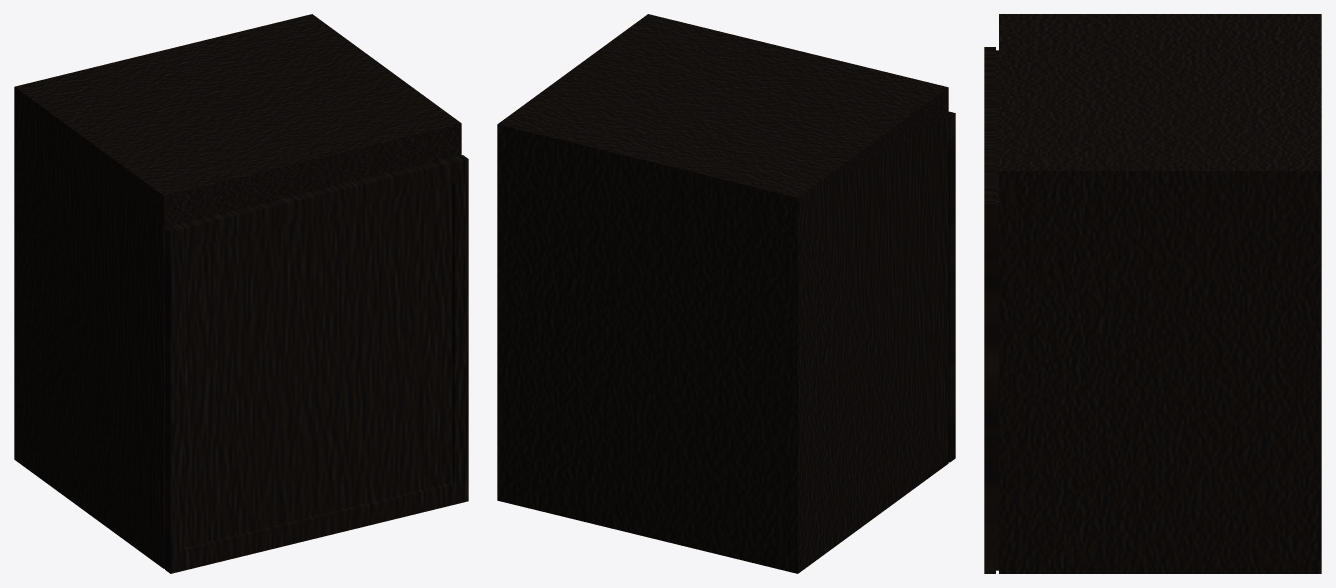
The model's file is kitchencabinetupper.fbx.
The picture shows the model from 3 angles, left to right: view 1: azimuth 30°, elevation 25°; view 2: azimuth 150°, elevation 25°; view 3: azimuth 270°, elevation 25°; orthographic projection. The views are drawn at different scales.
Visible parts, largest first — view 1: uppercabinet; view 2: uppercabinet; view 3: uppercabinet.
Boxes of the visible parts, x1,y1,x2,y2 form: uppercabinet: (14,14,468,573); uppercabinet: (497,14,955,573); uppercabinet: (984,14,1321,573).
Size of the model in its own units: 230 by 275 by 209.
